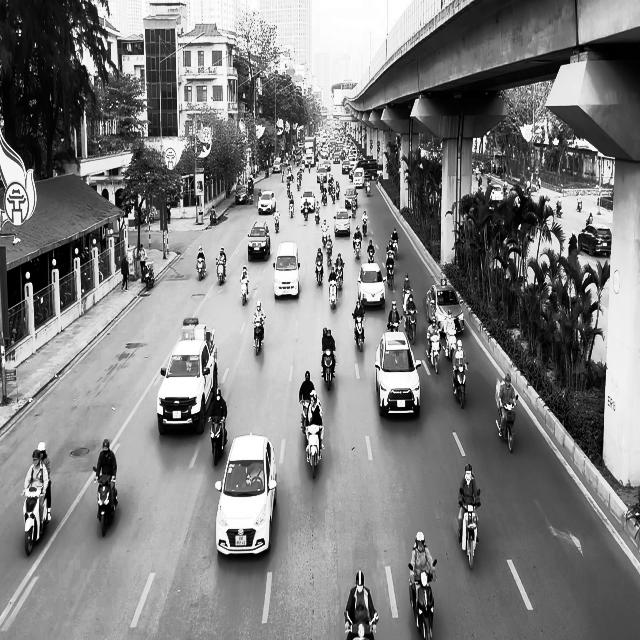car: (215, 433, 277, 557), (156, 318, 218, 435), (375, 331, 421, 417), (426, 284, 464, 335), (273, 241, 300, 299), (357, 262, 386, 309), (578, 224, 612, 257), (247, 220, 270, 262), (334, 208, 351, 236), (258, 190, 276, 215), (300, 189, 315, 212), (344, 186, 358, 209), (489, 184, 504, 202), (234, 185, 248, 204)
motorbike: (408, 560, 437, 640), (22, 478, 51, 556), (458, 488, 481, 569), (92, 467, 118, 537), (495, 394, 518, 453), (304, 424, 324, 479), (344, 612, 378, 640), (209, 414, 227, 466), (452, 364, 468, 408), (426, 334, 441, 374), (321, 349, 335, 391), (352, 312, 365, 351), (252, 318, 265, 356), (404, 309, 417, 344), (444, 326, 457, 358), (328, 279, 338, 309), (215, 259, 226, 285), (144, 262, 154, 289), (240, 279, 249, 305), (315, 260, 324, 286), (386, 260, 394, 288), (196, 258, 206, 280), (274, 214, 279, 232)
